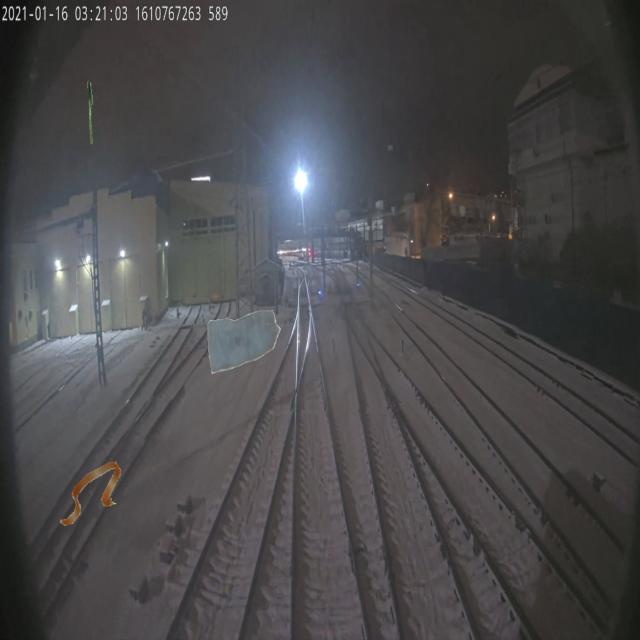floating object: (60, 462, 121, 526), (88, 80, 94, 144)
plastic bag: (207, 310, 281, 374)
